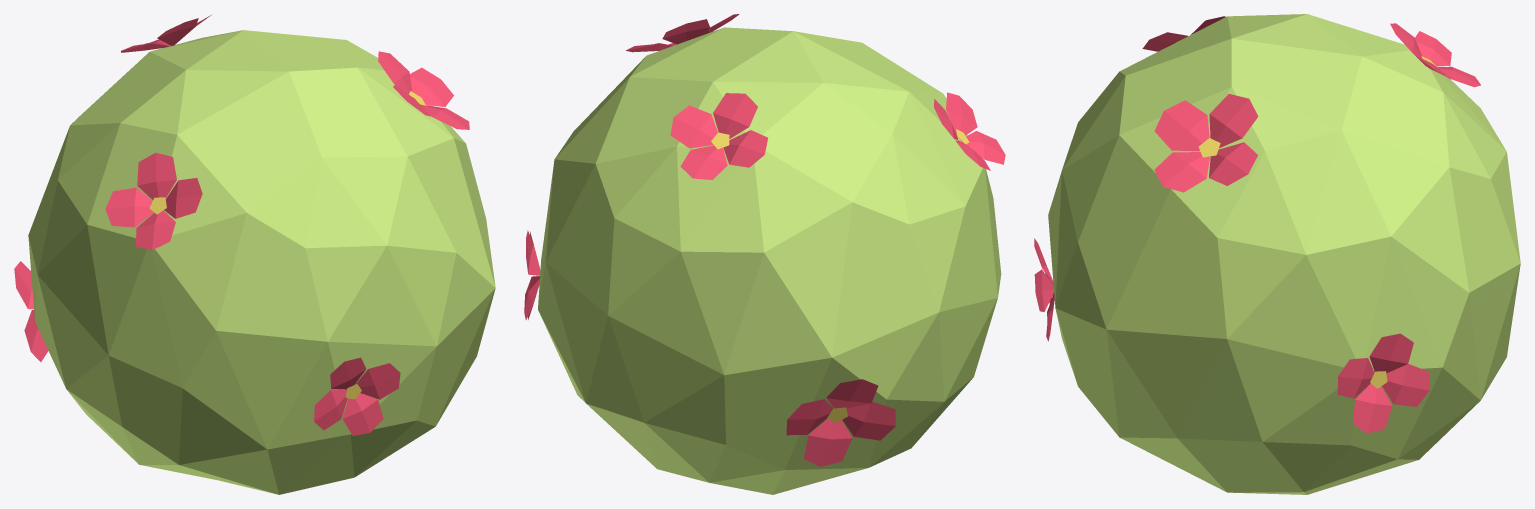
File: FlowerBush_f_m_01.fbx
3 views of the same model, side by side, from view 1: azimuth 30°, elevation 25°; view 2: azimuth 150°, elevation 25°; view 3: azimuth 270°, elevation 25° (orthographic). The views are drawn at different scales.
Visible parts, largest first — view 1: FlowerBush_f_m_01_LOD0; view 2: FlowerBush_f_m_01_LOD0; view 3: FlowerBush_f_m_01_LOD0.
Part boxes in pixels (left/top/right/bottom): FlowerBush_f_m_01_LOD0: left=14, top=15, right=495, bottom=494; FlowerBush_f_m_01_LOD0: left=524, top=14, right=1005, bottom=494; FlowerBush_f_m_01_LOD0: left=1034, top=14, right=1520, bottom=494.
Size of what is drawn, in the model's own units: 142 by 138 by 140.
